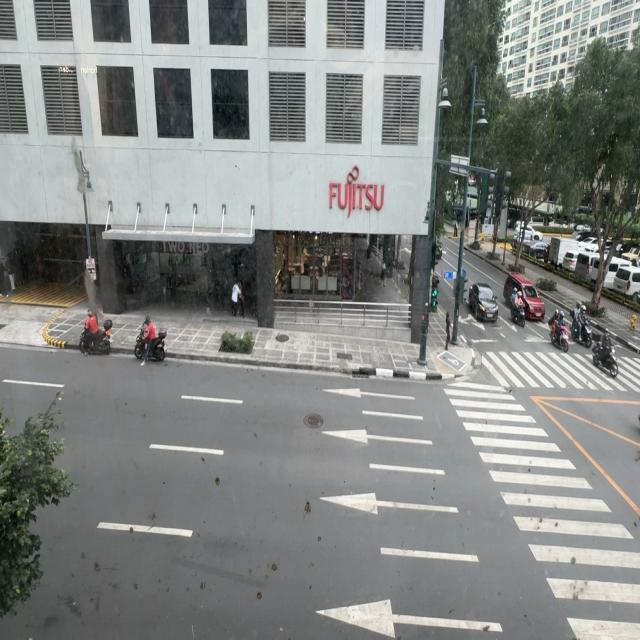waiting: (445, 311, 451, 351)
